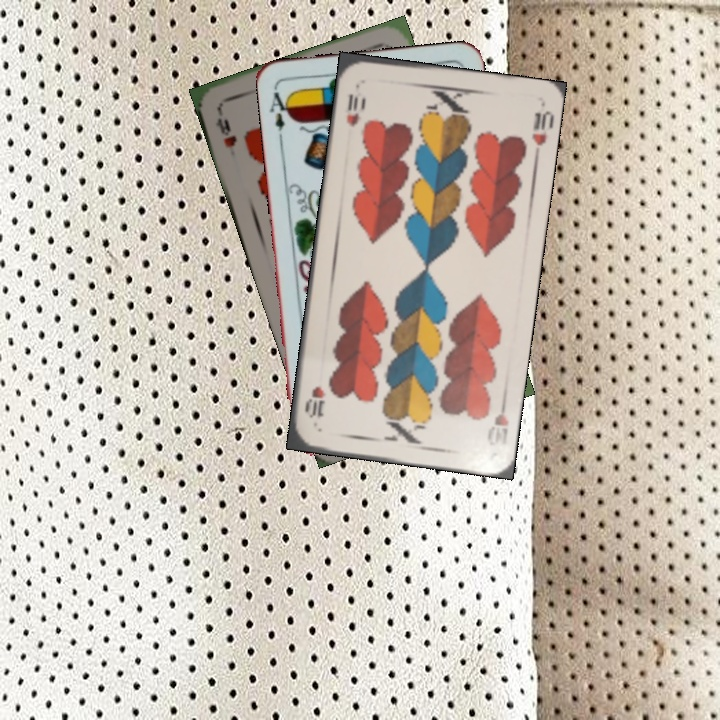EA: (266, 84, 294, 134)
H10: (483, 392, 512, 448), (342, 89, 363, 129)
H9: (211, 105, 240, 151)
